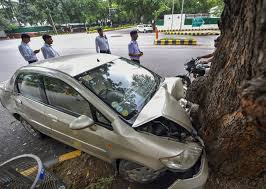accident: (34, 62, 248, 174)
